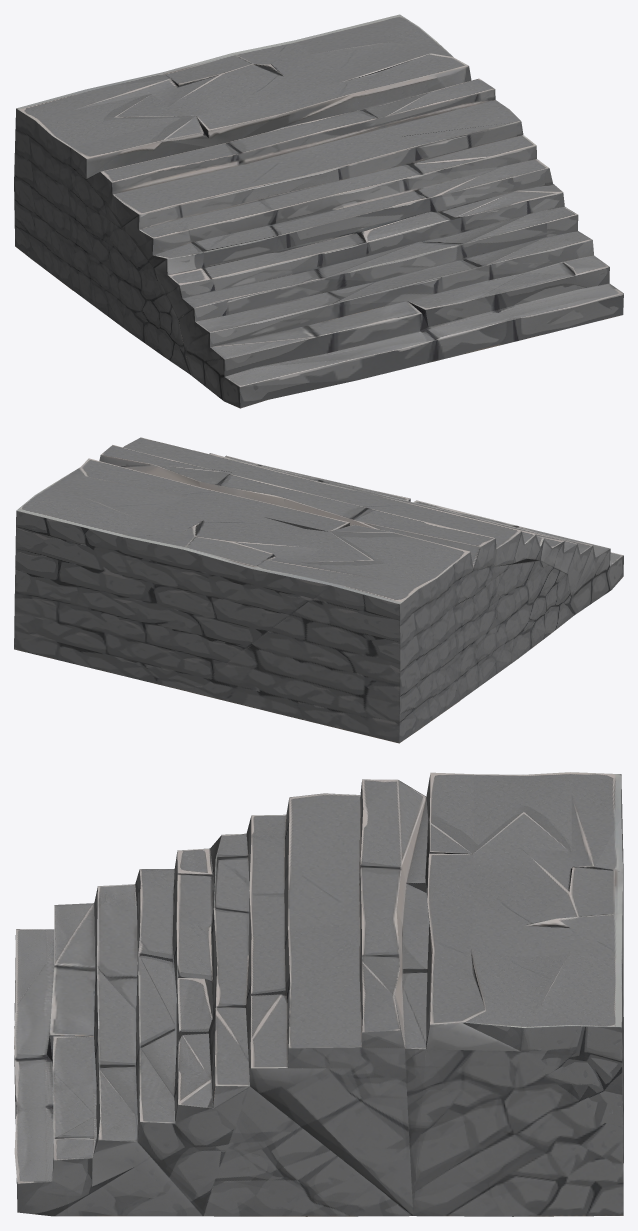
File: stairs_up.glb
The picture shows the model from 3 angles, top to bottom: view 1: azimuth 30°, elevation 25°; view 2: azimuth 150°, elevation 25°; view 3: azimuth 270°, elevation 25°; orthographic projection. The views are drawn at different scales.
Parts seen in each view (by area): view 1: Tile; view 2: Tile; view 3: Tile.
Part boxes in pixels (x1=…): Tile: x1=14, y1=14, x2=623, y2=408; Tile: x1=14, y1=437, x2=623, y2=743; Tile: x1=14, y1=772, x2=623, y2=1216.
Size of the model in its own units: 1 by 0.3528 by 1.
1 material, 1 textured.
